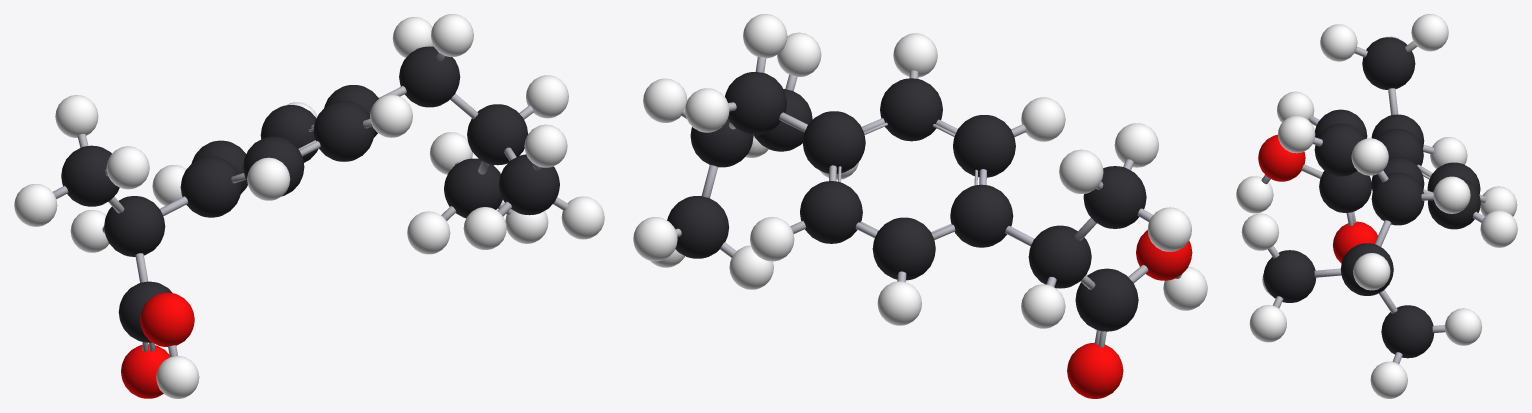
The model's file is ibuprofen.glb.
The picture shows the model from 3 angles, left to right: view 1: azimuth 30°, elevation 25°; view 2: azimuth 150°, elevation 25°; view 3: azimuth 270°, elevation 25°; orthographic projection. The views are drawn at different scales.
Visible parts, largest first — view 1: C7, C5, C10, C3, C1, C2, C11, C0, O14, O13, C9, C6 (+20 smaller); view 2: C7, C9, C5, C4, C8, C6, C12, C10, C3, C0, C11, O13 (+18 smaller); view 3: C11, C0, C2, C3, C5, C12, O14, C1, H31, H22, H30, H21 (+18 smaller).
Part boxes in pixels (x1,y1,x2,y2): C7: (180, 156, 241, 217); C5: (313, 101, 374, 161); C10: (104, 196, 165, 256); C3: (399, 46, 460, 107); C1: (467, 104, 527, 165); C2: (499, 154, 559, 215); C11: (61, 145, 119, 206); C0: (444, 158, 502, 218); O14: (140, 292, 194, 346); O13: (121, 344, 169, 398); C9: (260, 105, 318, 162); C6: (243, 136, 304, 196); C7: (950, 184, 1013, 247); C9: (800, 181, 862, 243); C5: (880, 78, 942, 141); C4: (802, 111, 865, 173); C8: (872, 217, 935, 280); C6: (953, 115, 1015, 177); C12: (1075, 268, 1138, 331); C10: (1028, 225, 1091, 288); C3: (725, 72, 786, 134); C0: (667, 196, 729, 258); C11: (1083, 166, 1146, 228); O13: (1067, 342, 1123, 398); C11: (1362, 37, 1415, 89); C0: (1381, 305, 1434, 358); C2: (1263, 250, 1316, 302); C3: (1371, 172, 1424, 225); C5: (1314, 123, 1364, 176); C12: (1319, 171, 1371, 212); O14: (1258, 134, 1305, 181); C1: (1340, 243, 1393, 295); H31: (1411, 14, 1448, 51); H22: (1351, 138, 1388, 175); H30: (1320, 24, 1357, 61); H21: (1249, 305, 1286, 342).
Bounding box in the file's own units: 10.35 × 5.49 × 5.41.
